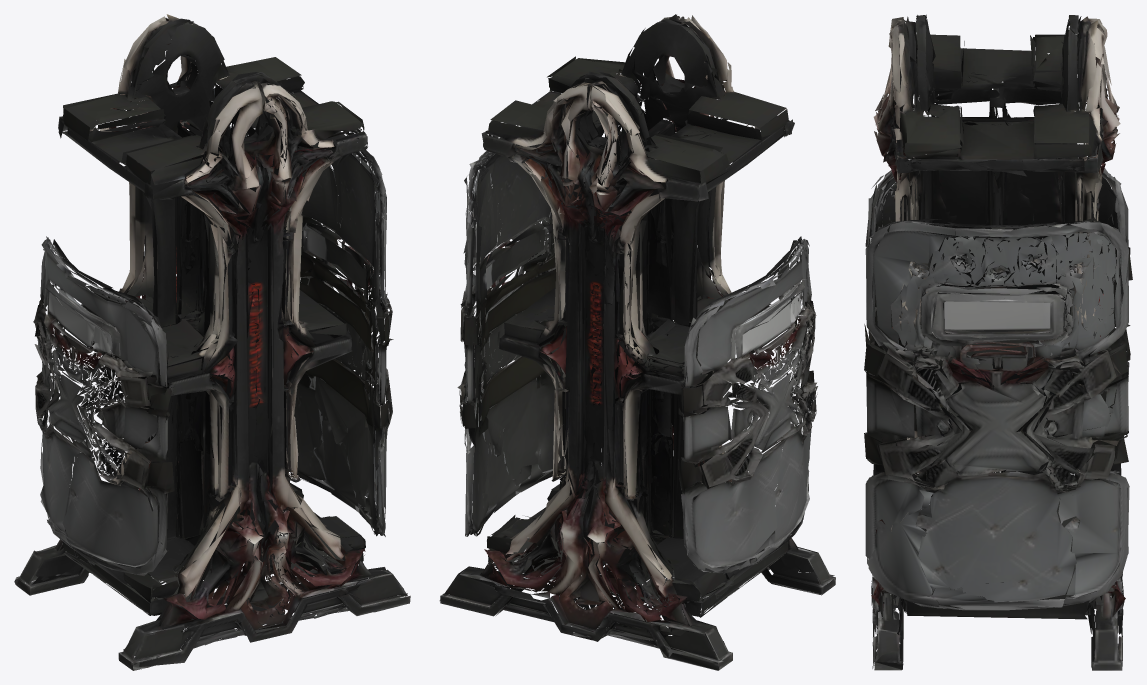
The model's file is prop_camp_vesper_shield_rack.glb.
3 views of the same model, side by side, from view 1: azimuth 30°, elevation 25°; view 2: azimuth 150°, elevation 25°; view 3: azimuth 270°, elevation 25° (orthographic). The views are drawn at different scales.
Visible parts, largest first — view 1: node_0; view 2: node_0; view 3: node_0.
Part boxes in pixels (x1,y1,x2,y2): node_0: (14, 14, 410, 670); node_0: (439, 14, 835, 670); node_0: (864, 14, 1132, 670).
Size of the model in its own units: 0.5673 by 1.01 by 0.4208.
1 material, 1 textured.
